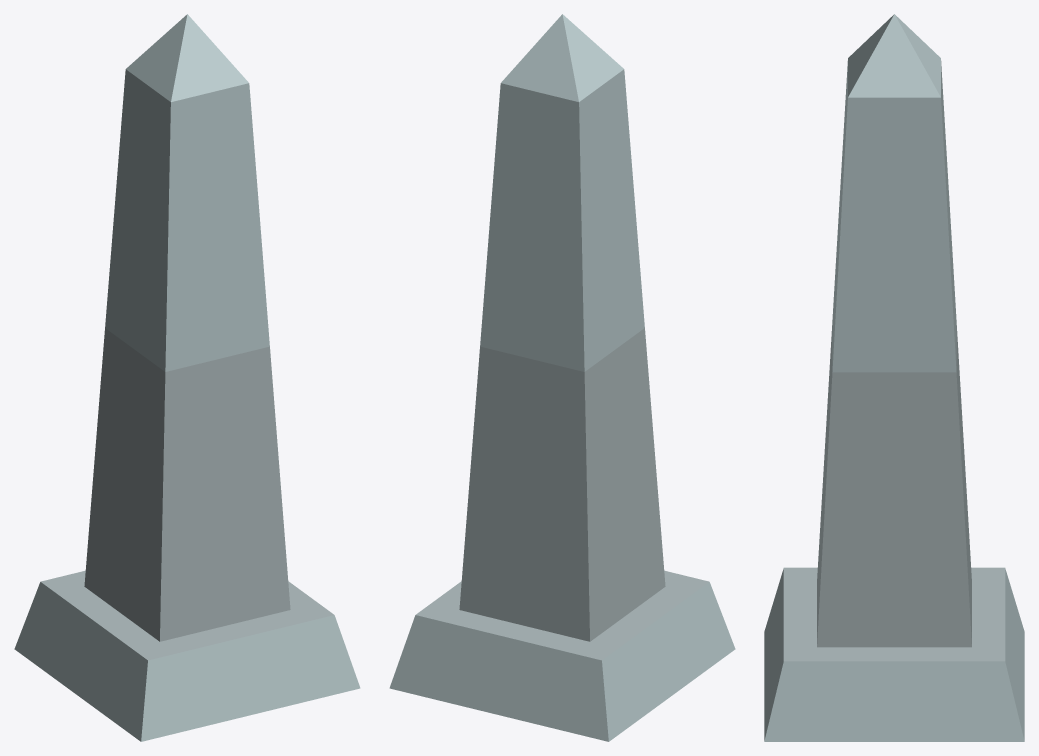
The model's file is statue_obelisk.glb.
3 views of the same model, side by side, from view 1: azimuth 30°, elevation 25°; view 2: azimuth 150°, elevation 25°; view 3: azimuth 270°, elevation 25° (orthographic). The views are drawn at different scales.
Parts seen in each view (by area): view 1: statue_obelisk; view 2: statue_obelisk; view 3: statue_obelisk.
Boxes of the visible parts, x1,y1,x2,y2 form: statue_obelisk: (14,14,360,741); statue_obelisk: (389,14,735,741); statue_obelisk: (764,14,1024,741).
Bounding box in the file's own units: 0.307 × 0.8754 × 0.307.
